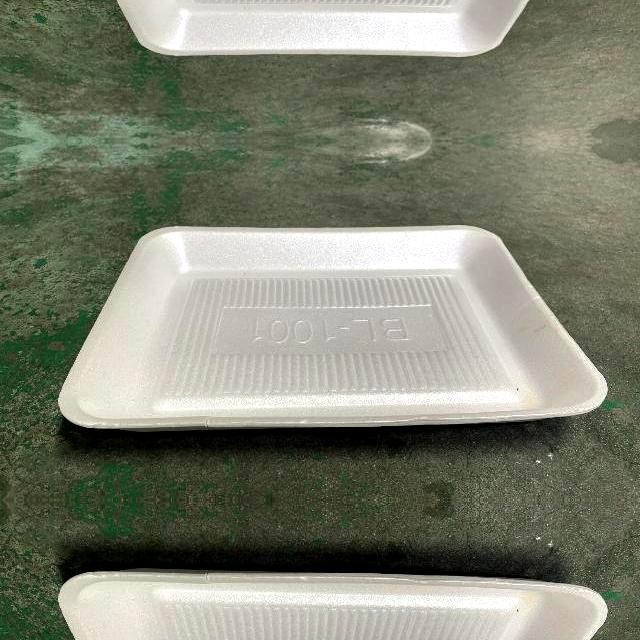Styrofoam: (57, 223, 608, 433), (58, 224, 608, 430), (57, 565, 608, 640), (58, 568, 608, 640), (57, 0, 608, 57), (117, 0, 529, 56)
